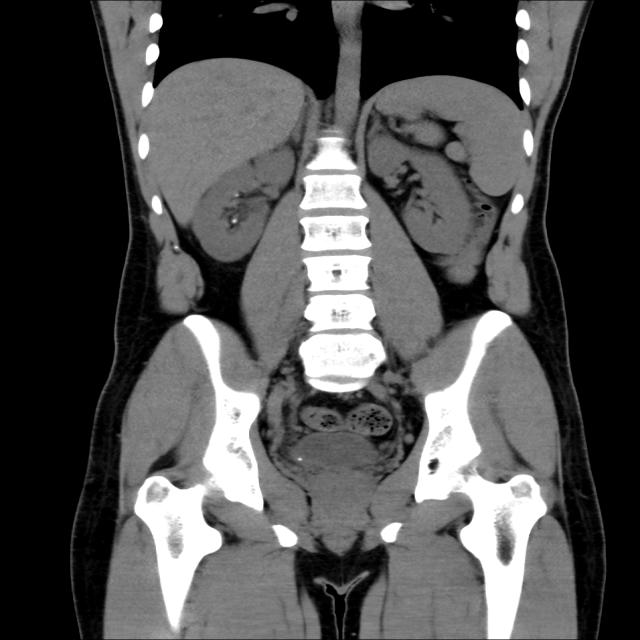kidneystone: (228, 219, 238, 228)
